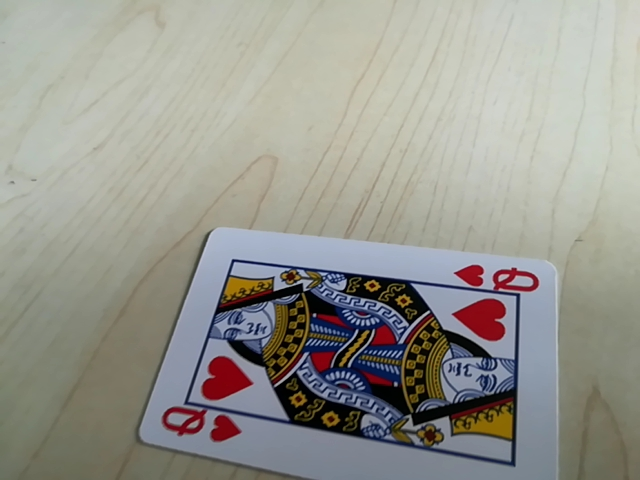hx q: (156, 404, 243, 448), (455, 259, 545, 296)
